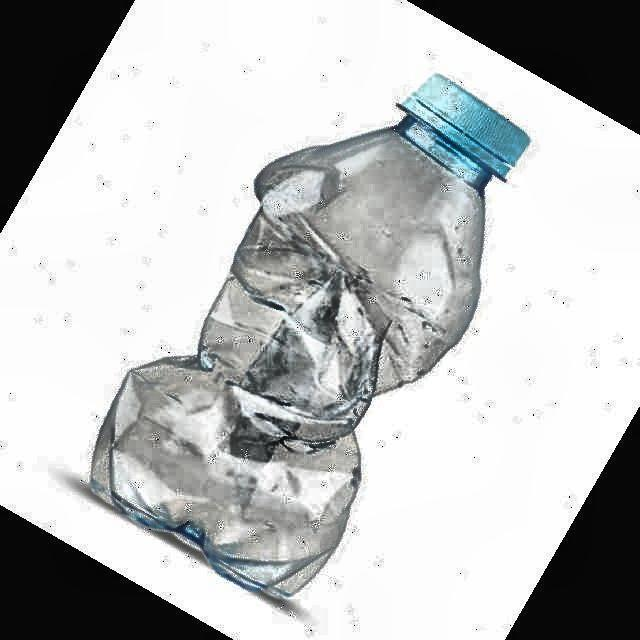plastic: (91, 76, 528, 598)
